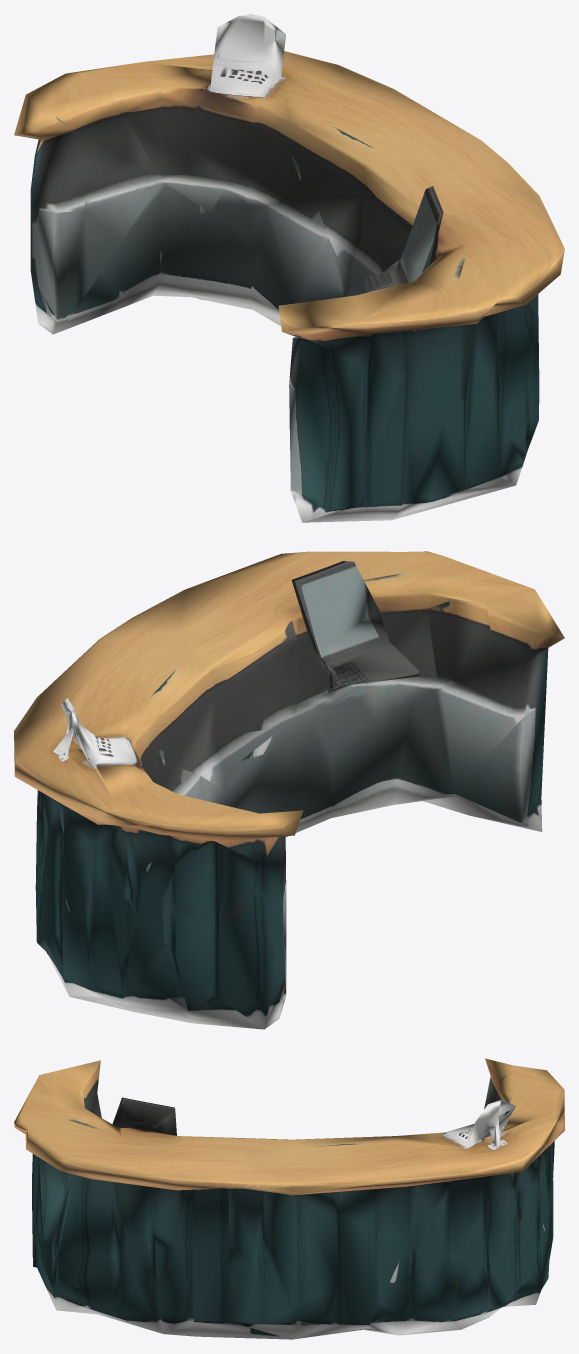
File: desk.glb
3 views of the same model, one above another, from view 1: azimuth 30°, elevation 25°; view 2: azimuth 150°, elevation 25°; view 3: azimuth 270°, elevation 25° (orthographic). The views are drawn at different scales.
Visible parts, largest first — view 1: tripo_node_614f7f09-9269-459a-96bc-ffb603b7d674; view 2: tripo_node_614f7f09-9269-459a-96bc-ffb603b7d674; view 3: tripo_node_614f7f09-9269-459a-96bc-ffb603b7d674.
Part boxes in pixels (bbox=[...]): tripo_node_614f7f09-9269-459a-96bc-ffb603b7d674: bbox=[14, 14, 564, 522]; tripo_node_614f7f09-9269-459a-96bc-ffb603b7d674: bbox=[14, 551, 564, 1029]; tripo_node_614f7f09-9269-459a-96bc-ffb603b7d674: bbox=[14, 1058, 564, 1339].
Size of the model in its own units: 0.536 by 0.4128 by 0.9666.
1 material, 1 textured.
